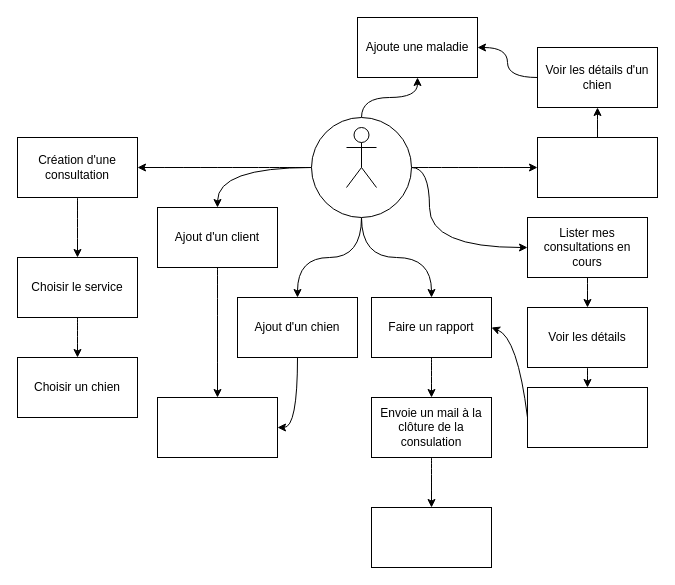
This 675x585 diagram has some shape labels left out. Here are the shapes that lost their labels. From the top down, the box of each, then its label:
(346, 126, 376, 188): Actor
(536, 136, 658, 198): Lister les chiens
(156, 396, 278, 458): Insérer les détails
(526, 386, 648, 448): Finir la consultation
(370, 506, 492, 568): Envoie la facture
